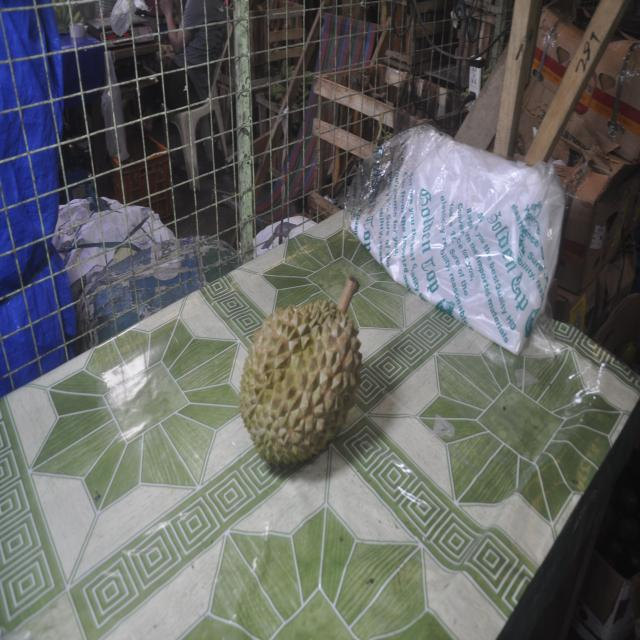mature: (208, 240, 390, 482)
